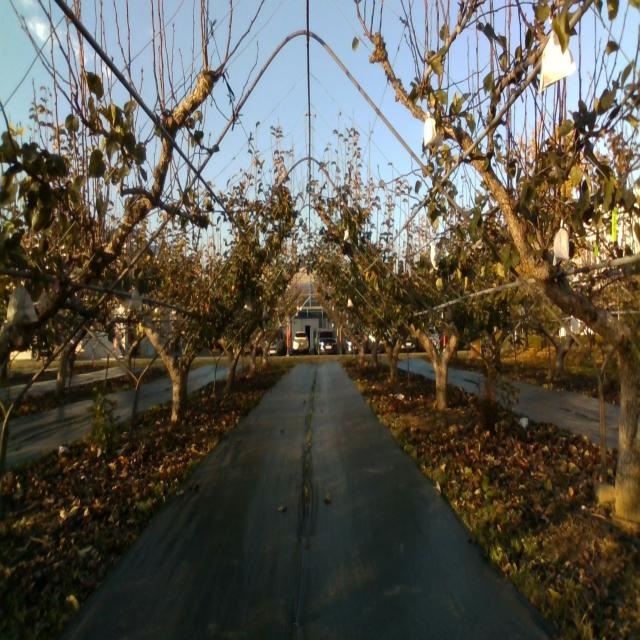pearbags: (539, 30, 577, 94), (6, 283, 38, 324), (553, 219, 570, 267), (424, 110, 444, 147), (430, 240, 440, 272), (129, 289, 143, 311)
